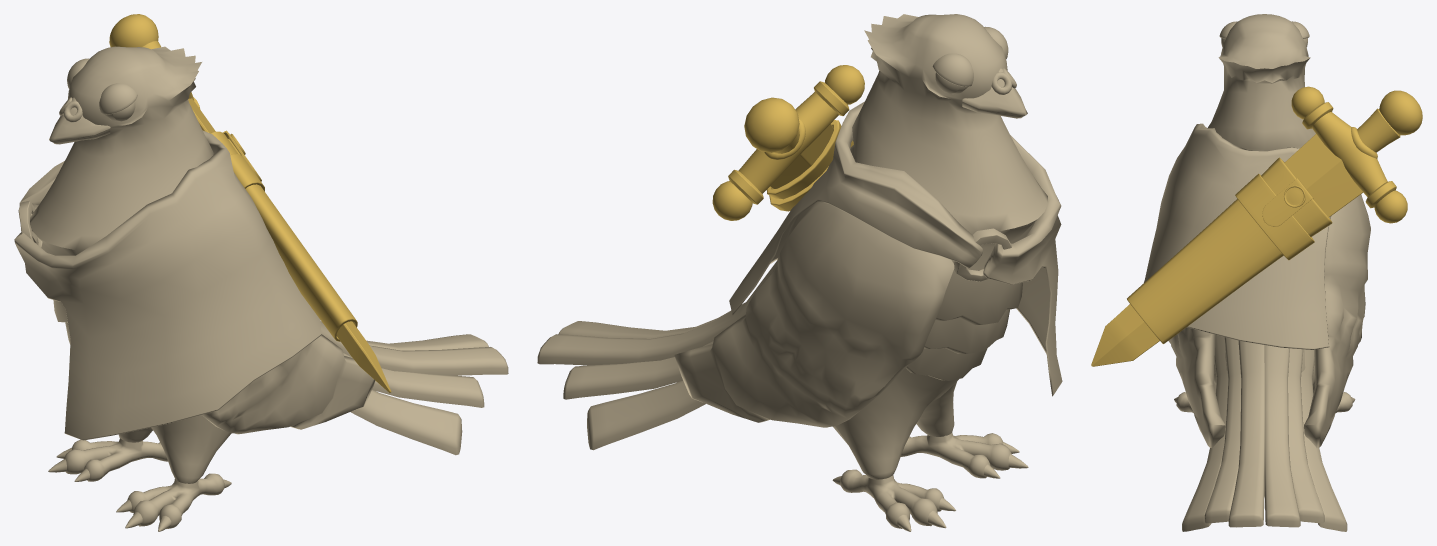
3 views of the same model, side by side, from view 1: azimuth 30°, elevation 25°; view 2: azimuth 150°, elevation 25°; view 3: azimuth 270°, elevation 25° (orthographic). The views are drawn at different scales.
Parts seen in each view (by area): view 1: polySurface44, polySurface47, pCube9, polySurface116, polySurface77, polySurface71, polySurface70, polySurface43, polySurface40, polySurface38, polySurface42; view 2: polySurface47, polySurface82, polySurface44, pCube9, polySurface70, polySurface71, polySurface54, polySurface40, polySurface77, polySurface38, polySurface45, polySurface55 (+3 smaller); view 3: pCube9, polySurface44, polySurface77, polySurface47, polySurface82, polySurface43, polySurface116, polySurface54, polySurface40, polySurface53, polySurface79, polySurface45 (+4 smaller).
Part boxes in pixels (left/top/right/bottom): polySurface44: left=14, top=130, right=321, bottom=440; polySurface47: left=30, top=46, right=231, bottom=483; pCube9: left=320, top=321, right=508, bottom=455; polySurface116: left=202, top=334, right=375, bottom=434; polySurface77: left=210, top=131, right=357, bottom=341; polySurface71: left=116, top=473, right=231, bottom=531; polySurface70: left=48, top=438, right=167, bottom=481; polySurface43: left=188, top=98, right=391, bottom=392; polySurface40: left=109, top=14, right=158, bottom=47; polySurface38: left=49, top=97, right=110, bottom=144; polySurface42: left=99, top=83, right=137, bottom=114; polySurface47: left=772, top=14, right=1047, bottom=479; polySurface82: left=674, top=201, right=954, bottom=427; polySurface44: left=729, top=101, right=1062, bottom=396; pCube9: left=537, top=261, right=776, bottom=450; polySurface70: left=832, top=469, right=955, bottom=531; polySurface71: left=900, top=433, right=1028, bottom=478; polySurface54: left=738, top=92, right=838, bottom=193; polySurface40: left=744, top=97, right=799, bottom=152; polySurface77: left=766, top=120, right=853, bottom=211; polySurface38: left=962, top=68, right=1027, bottom=118; polySurface45: left=712, top=181, right=752, bottom=220; polySurface55: left=825, top=65, right=864, bottom=104; pCube9: left=1182, top=335, right=1347, bottom=531; polySurface44: left=1144, top=123, right=1331, bottom=349; polySurface77: left=1127, top=157, right=1332, bottom=343; polySurface47: left=1207, top=14, right=1315, bottom=393; polySurface82: left=1304, top=194, right=1370, bottom=447; polySurface43: left=1091, top=134, right=1362, bottom=366; polySurface116: left=1168, top=327, right=1225, bottom=448; polySurface54: left=1311, top=111, right=1387, bottom=197; polySurface40: left=1379, top=90, right=1422, bottom=135; polySurface53: left=1357, top=108, right=1400, bottom=152; polySurface79: left=1262, top=178, right=1313, bottom=226; polySurface45: left=1374, top=190, right=1407, bottom=223.
Size of the model in its own units: 21.27 by 19.73 by 15.12.
